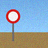sign: (6, 9, 20, 41)
